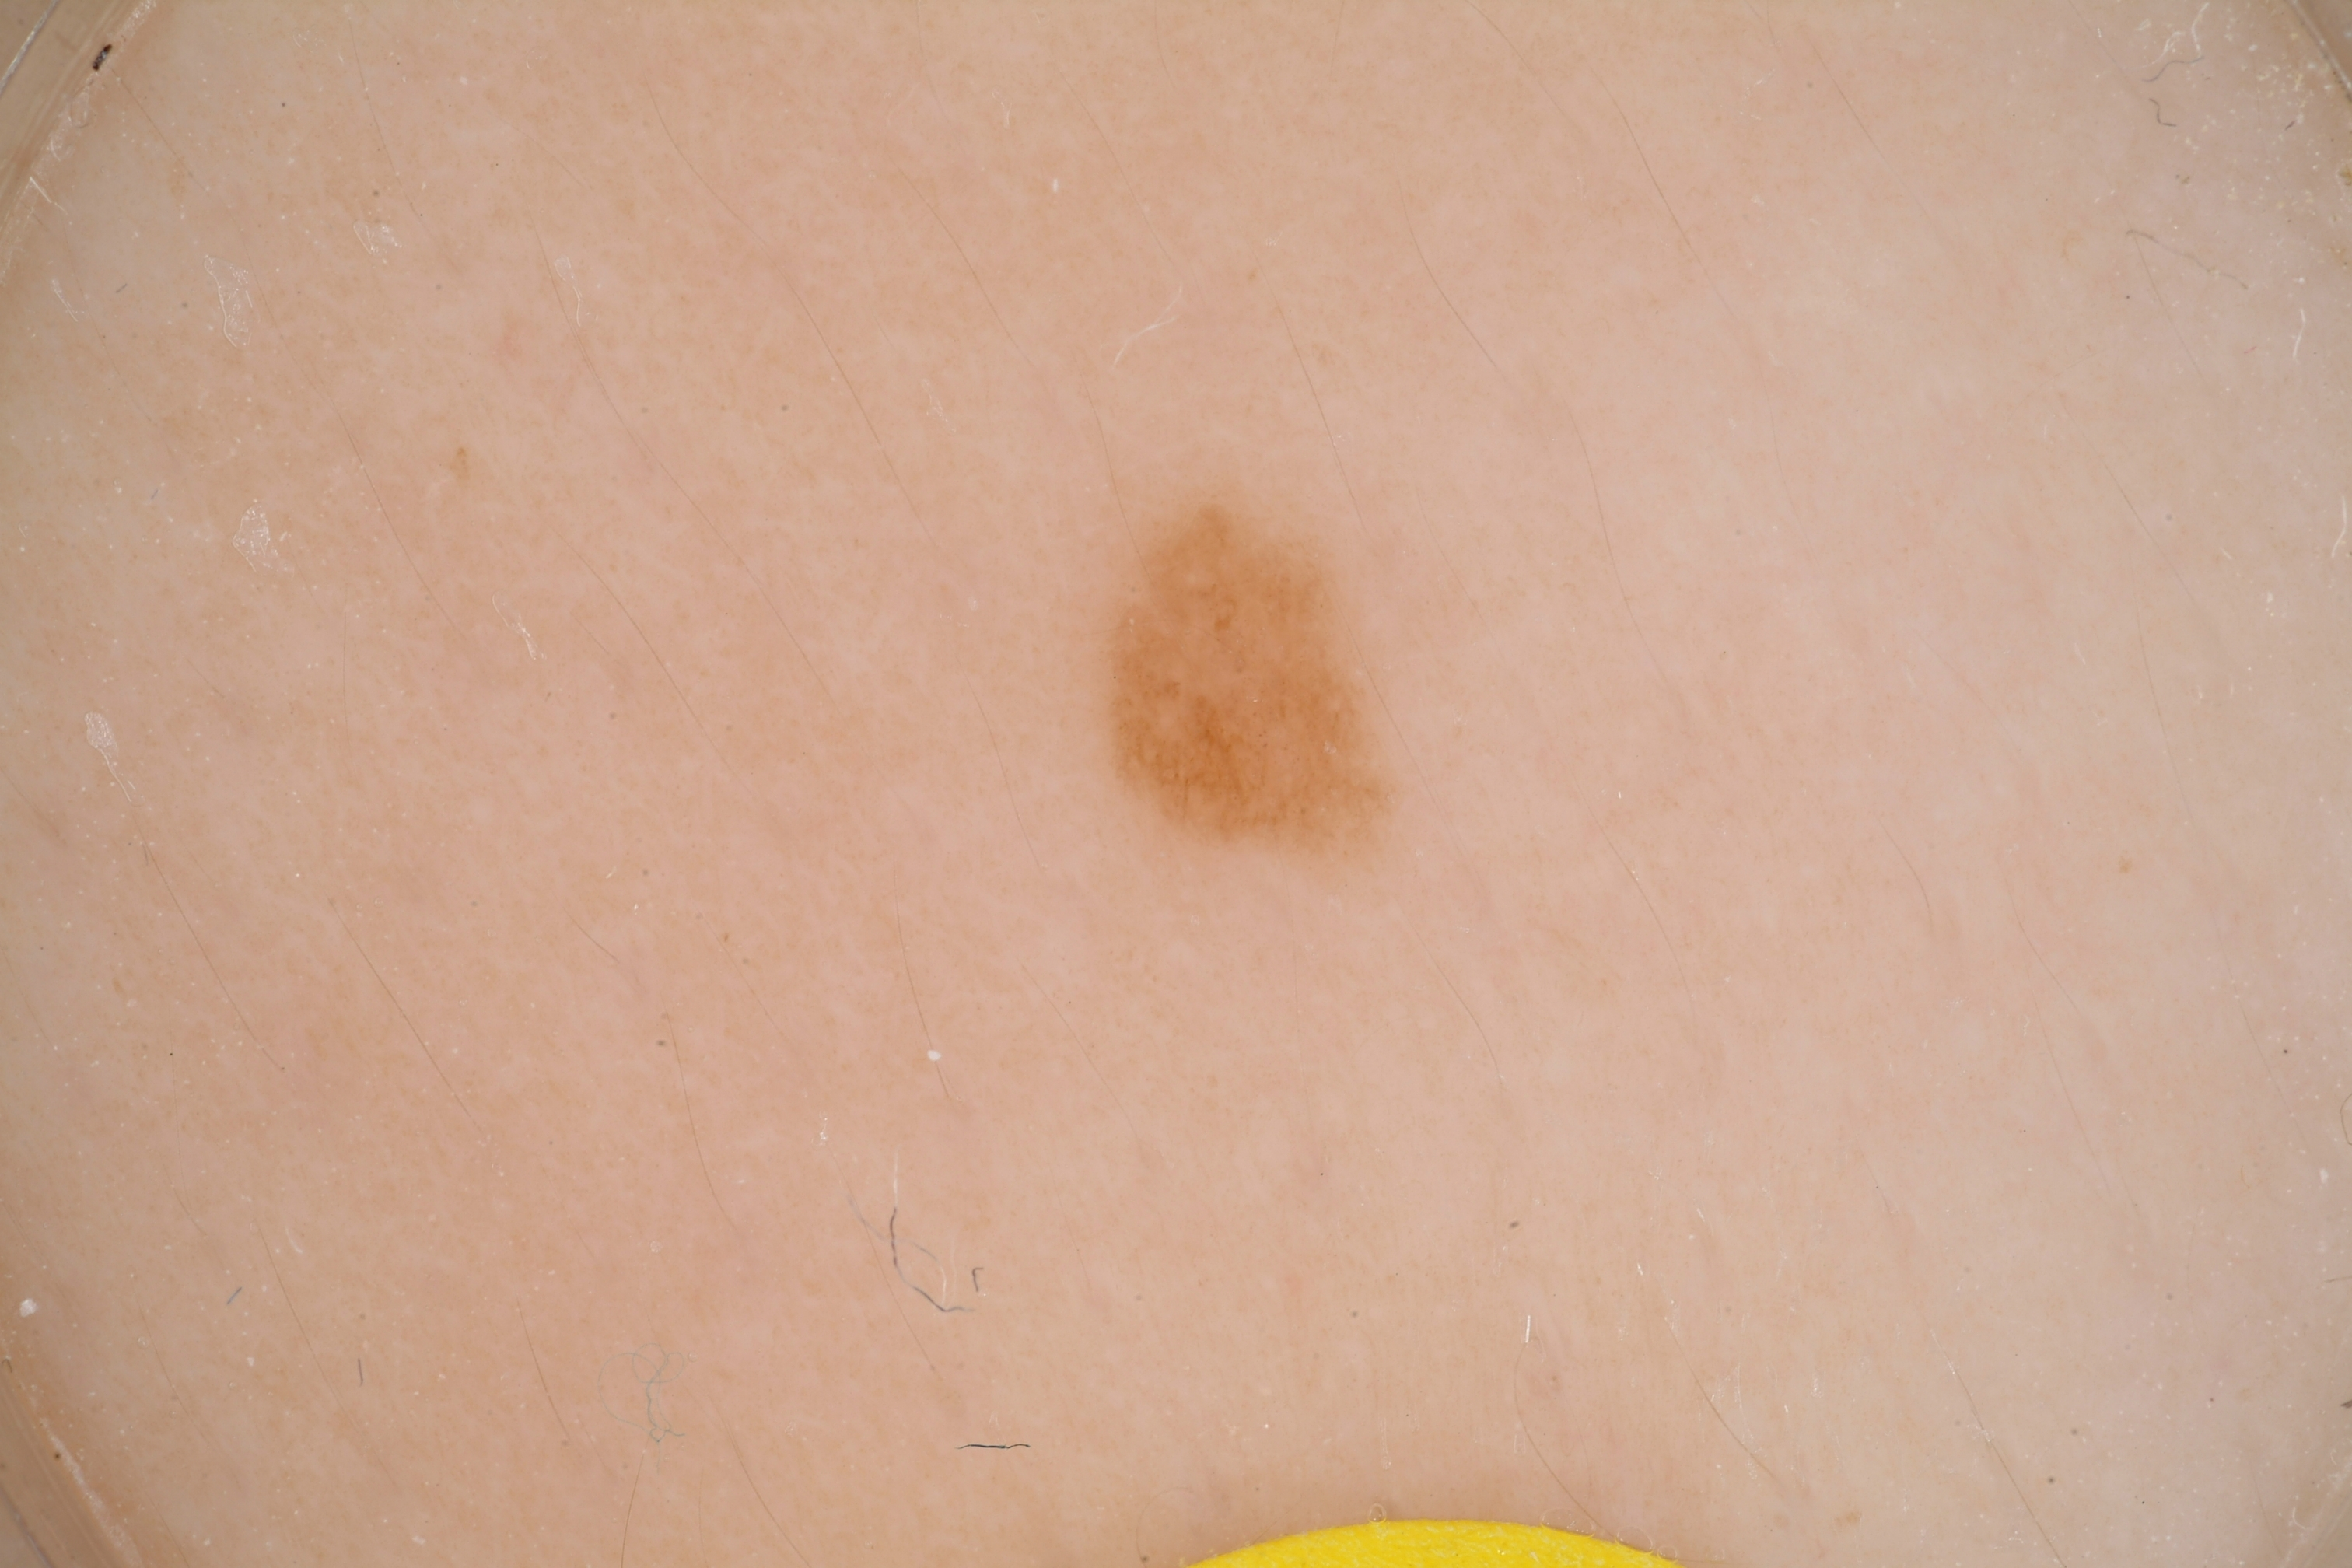Detected Lesion: (1099, 502, 1407, 882)
